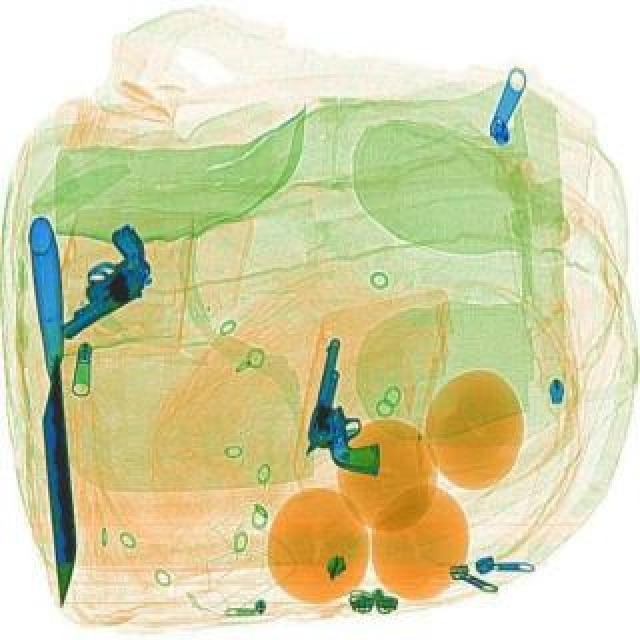gun: (24, 218, 172, 340), (298, 334, 404, 476)
knife: (26, 216, 82, 604)
